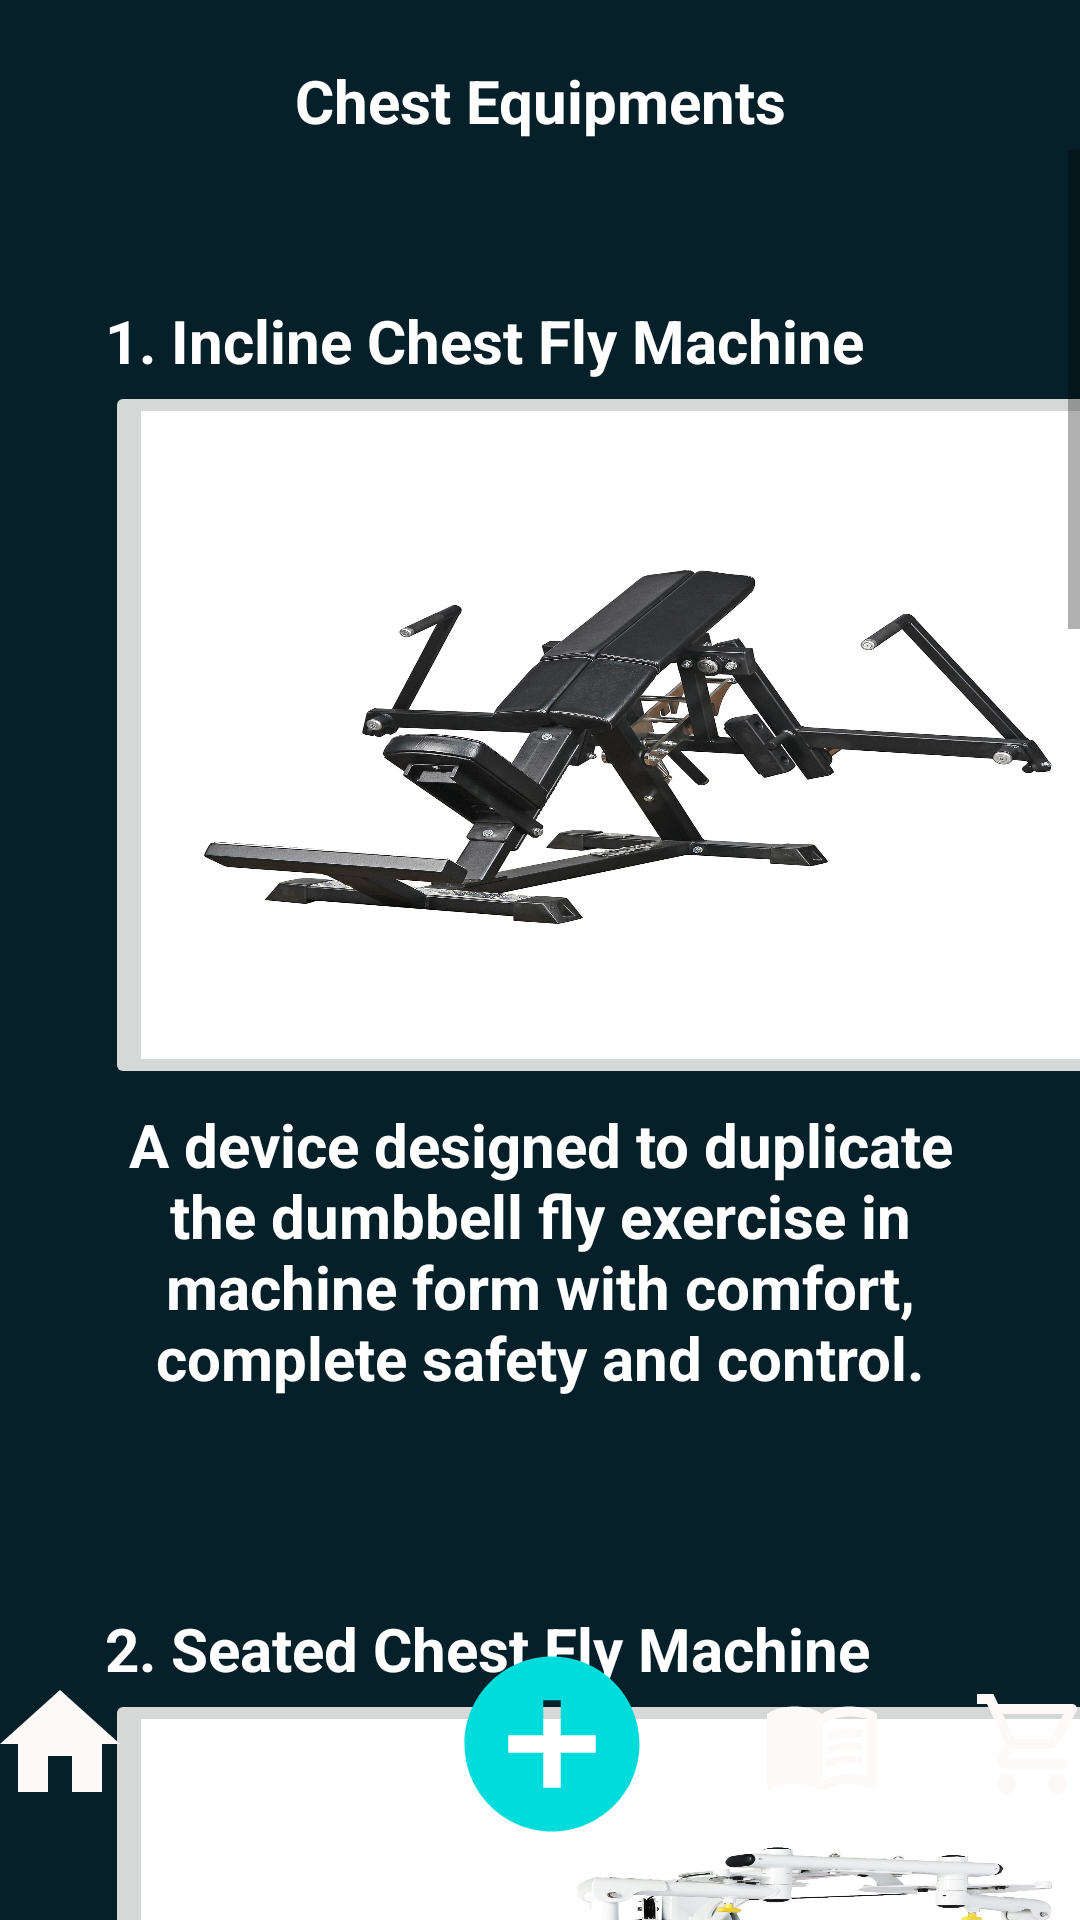

Where to tap for icons on this 1080*1920 app screen, as [x,y]:
add circle: [552,1735]
book: [822,1744]
home: [66,1753]
shopping cart: [1026,1744]
